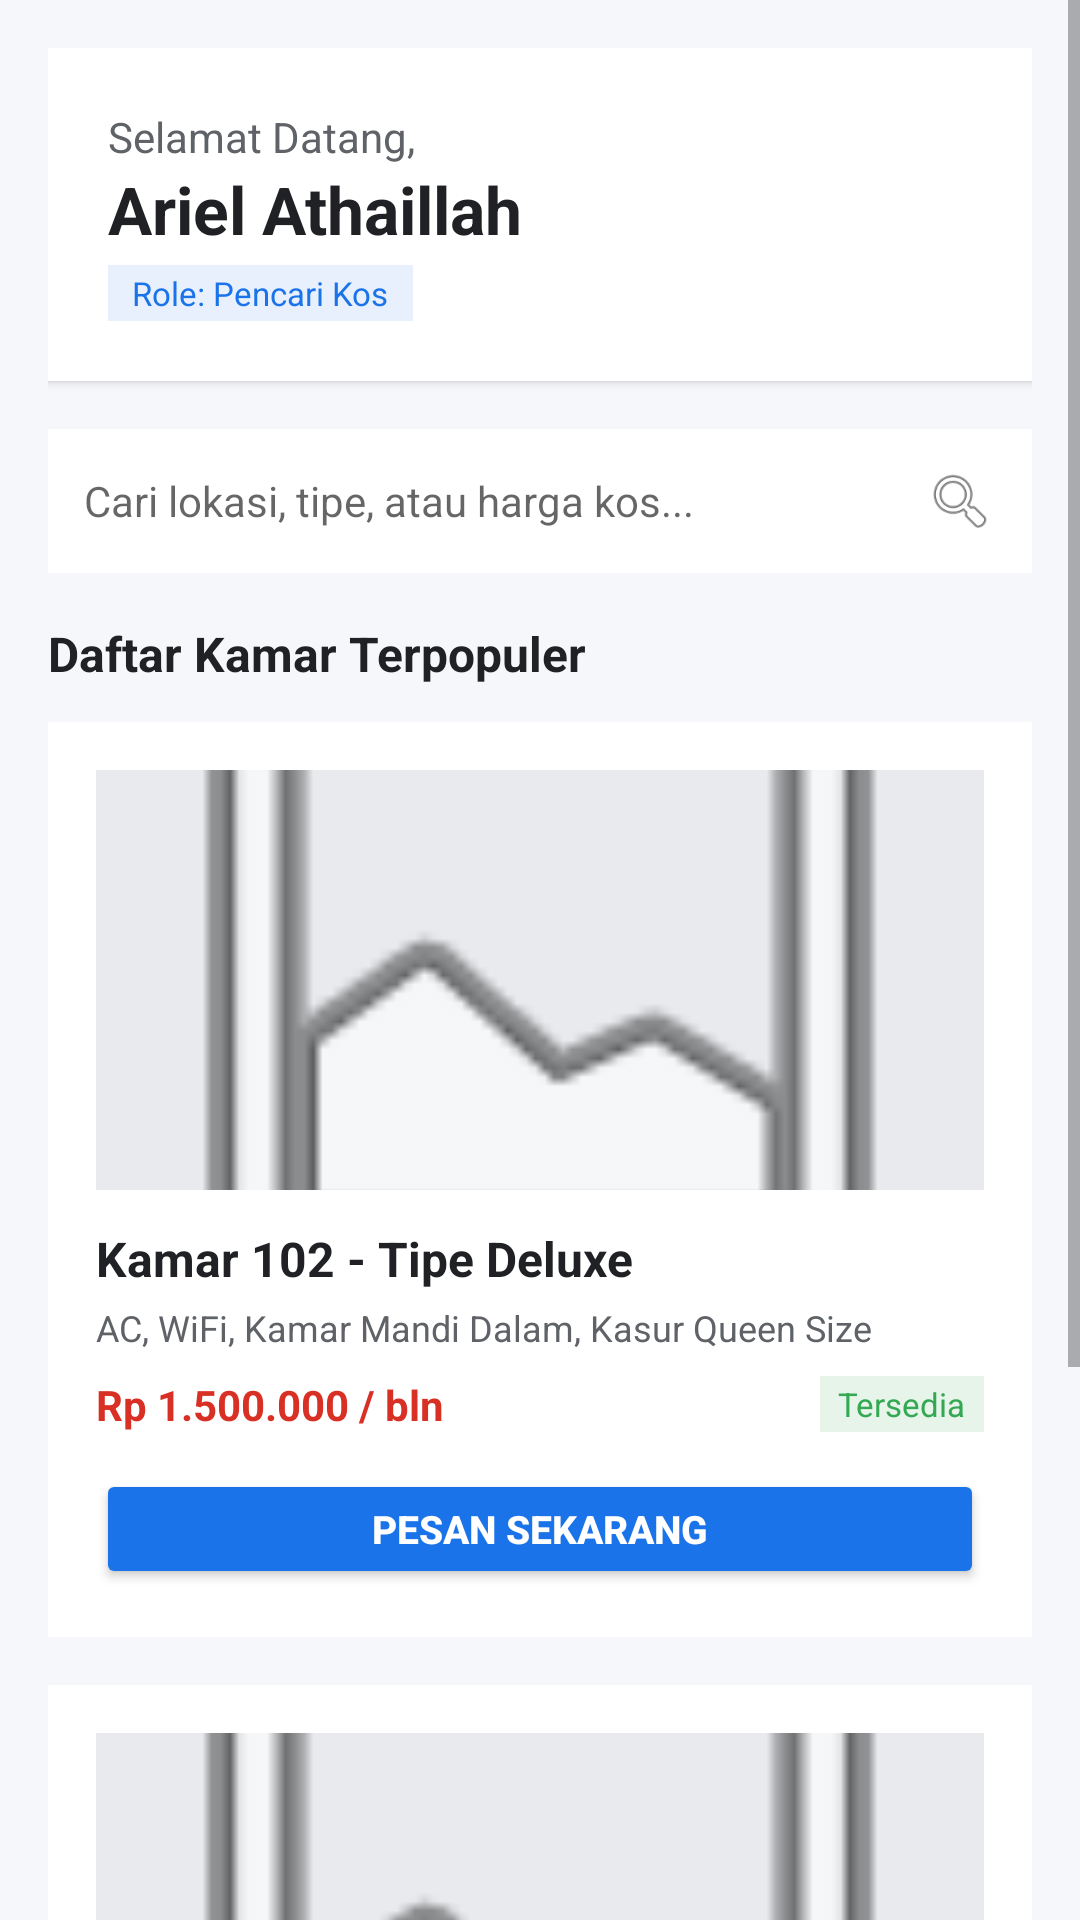

Where icons sit on this 1080 x 1920 app screen, as Rect(x1, y1, x2, y2):
Tombol Cari: Rect(933, 475, 987, 528)
